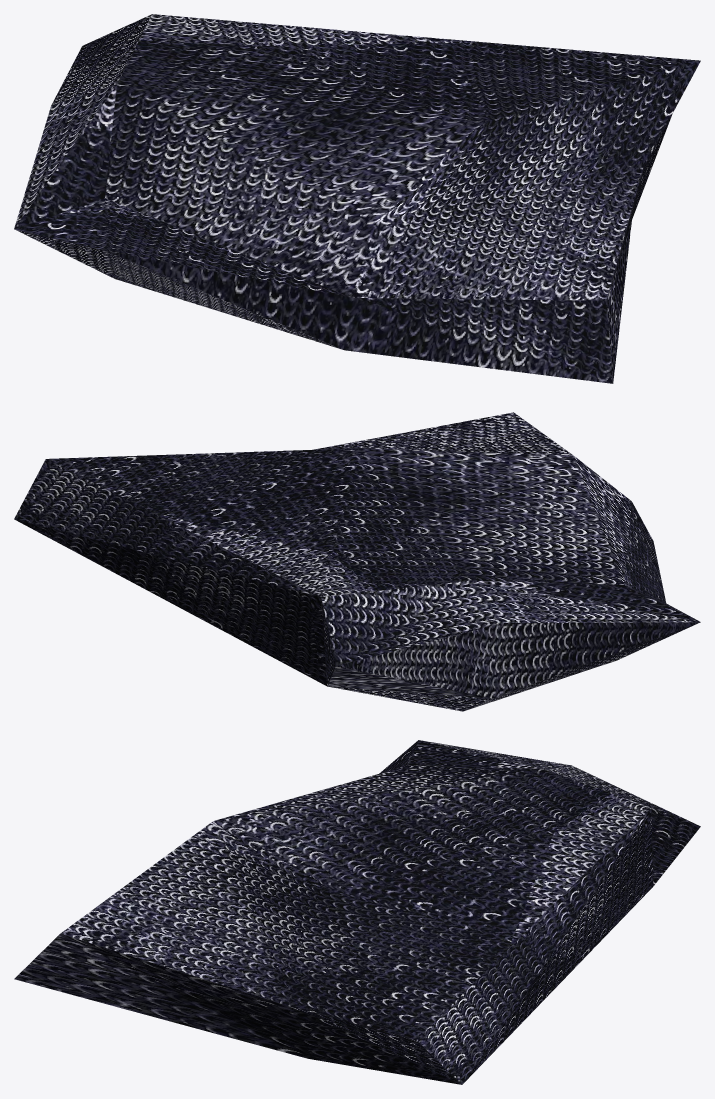
Rendered from KOLCZUGASRUDAS.glb.
The picture shows the model from 3 angles, top to bottom: view 1: azimuth 30°, elevation 25°; view 2: azimuth 150°, elevation 25°; view 3: azimuth 270°, elevation 25°; orthographic projection. The views are drawn at different scales.
Parts seen in each view (by area): view 1: KOLCZUGASRUDAS; view 2: KOLCZUGASRUDAS; view 3: KOLCZUGASRUDAS.
Part boxes in pixels (x1,y1,x2,y2): KOLCZUGASRUDAS: (14, 14, 700, 383); KOLCZUGASRUDAS: (14, 412, 700, 711); KOLCZUGASRUDAS: (14, 740, 700, 1084).
Size of the model in its own units: 0.7263 by 0.1523 by 0.6908.
1 material, 1 textured.
